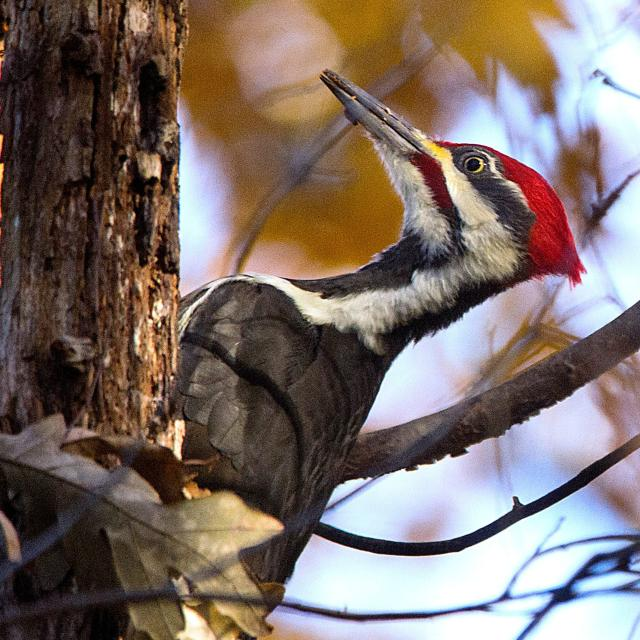Woodpecker: (177, 56, 591, 612)
